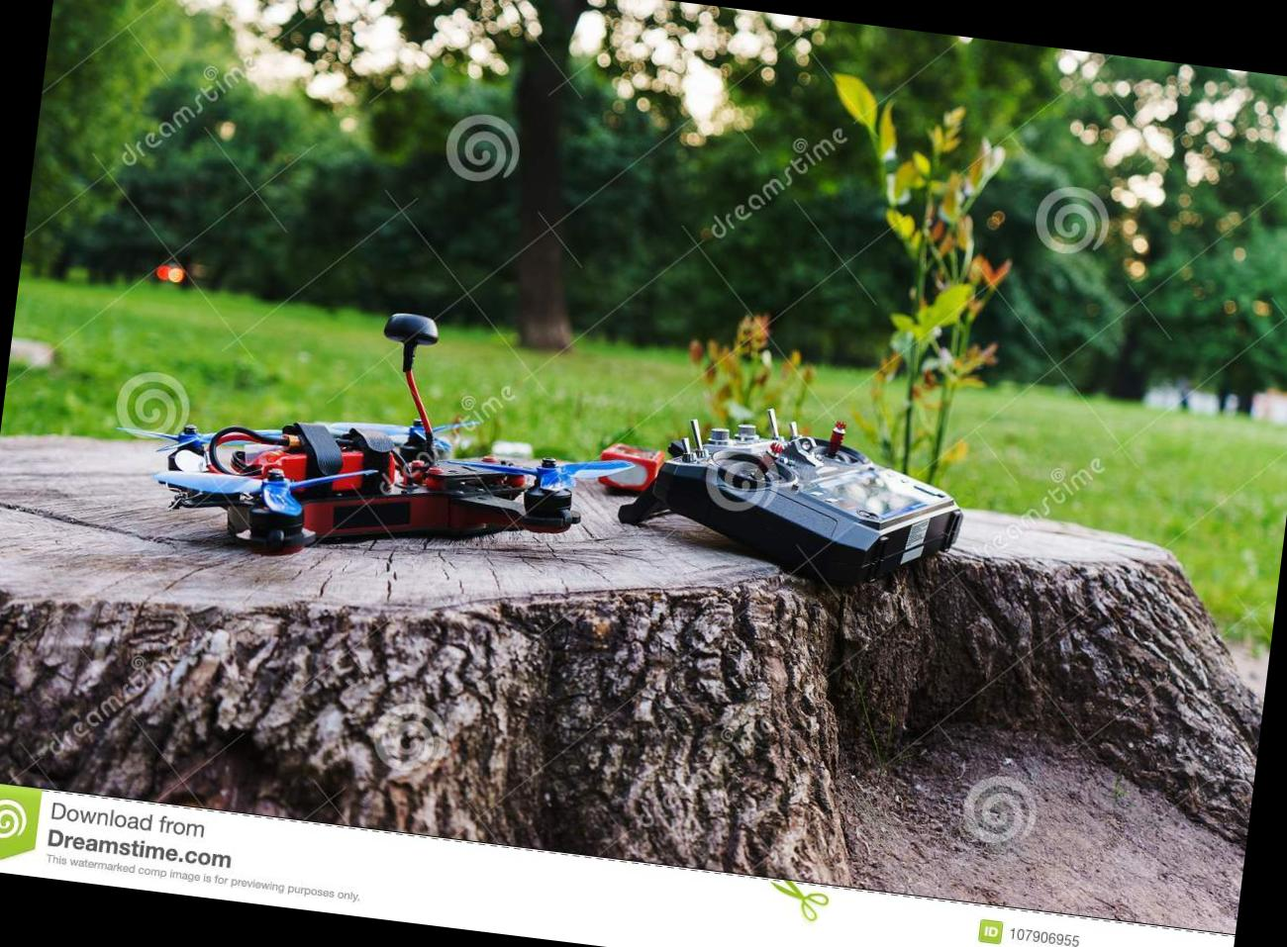drone: (127, 380, 640, 594)
